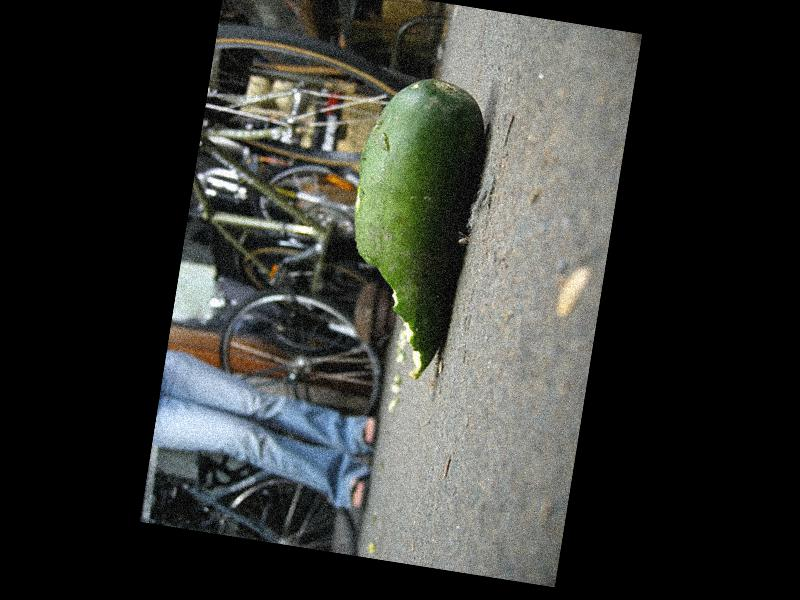Cucumber: (328, 70, 490, 387)
